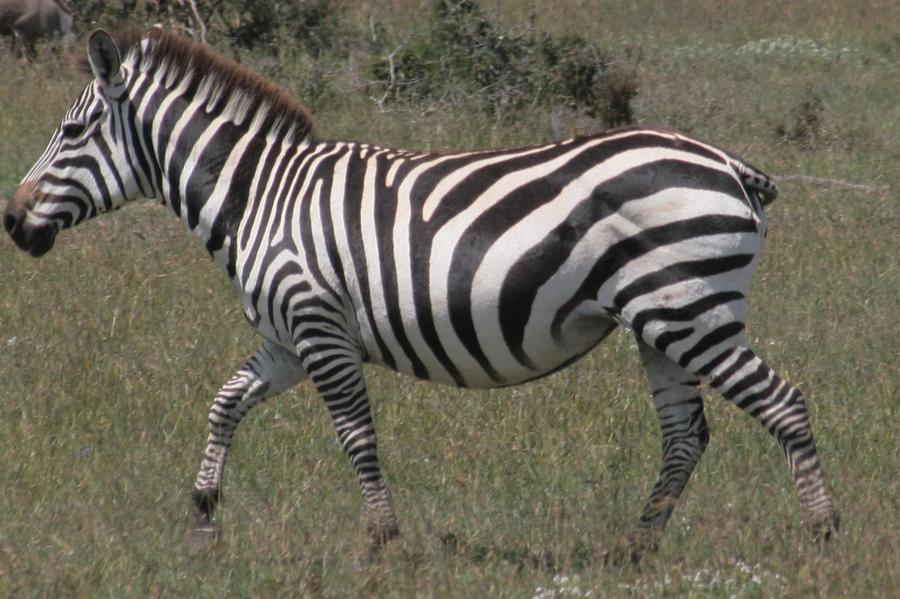zebra_plains: (225, 105, 786, 383)
